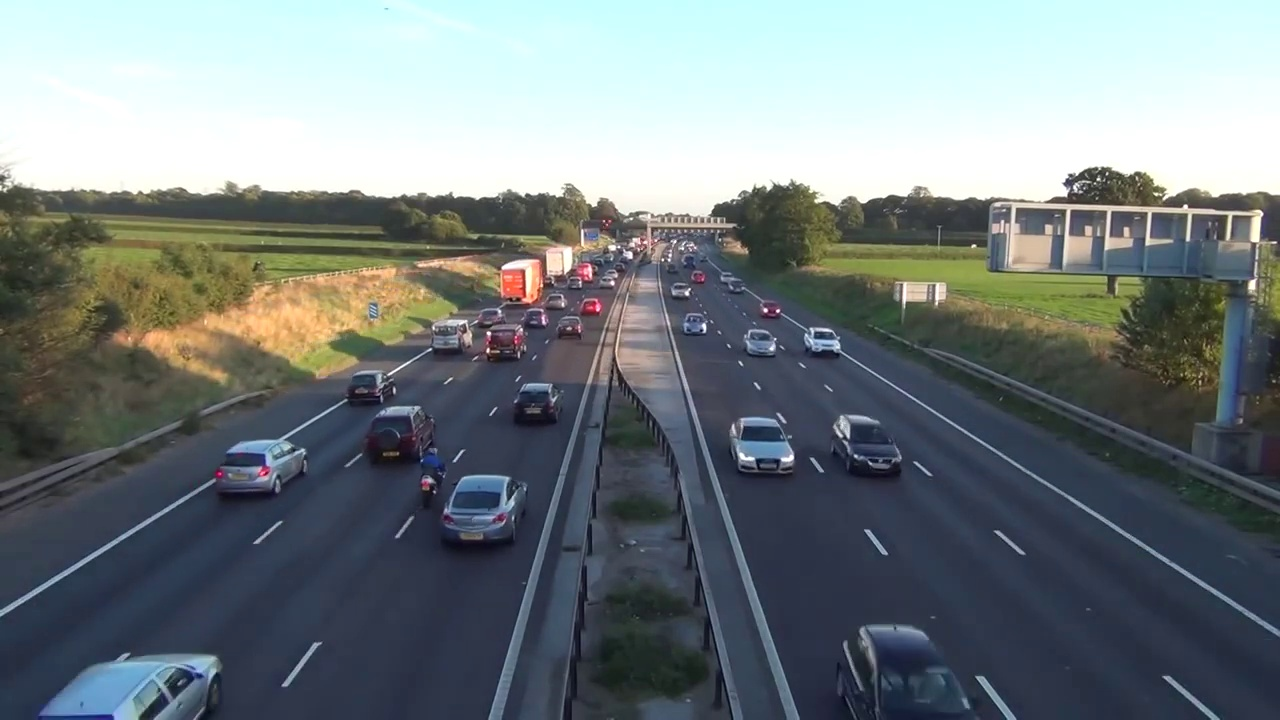bus: (34, 633, 225, 720), (829, 622, 978, 717), (210, 430, 309, 499), (441, 478, 523, 549), (723, 410, 802, 480), (826, 418, 913, 480), (368, 404, 438, 463), (801, 325, 849, 363), (345, 368, 393, 404), (515, 381, 561, 416), (742, 329, 782, 354), (682, 312, 714, 336), (477, 307, 507, 327), (756, 299, 783, 318), (559, 317, 583, 338), (523, 309, 548, 328), (670, 280, 691, 298), (581, 298, 603, 315), (726, 278, 747, 293), (547, 293, 566, 309), (596, 276, 615, 289), (719, 272, 736, 285), (690, 270, 704, 284), (569, 277, 583, 290), (545, 276, 557, 288), (665, 263, 679, 273), (592, 258, 605, 268), (606, 268, 619, 278), (614, 263, 627, 272), (592, 266, 599, 276)
car: (499, 260, 546, 307), (546, 246, 574, 281)
jeep: (412, 447, 452, 513)
lorry: (487, 322, 529, 363), (430, 319, 473, 351), (573, 256, 577, 270)
minibus: (574, 264, 596, 285), (682, 254, 695, 272)
